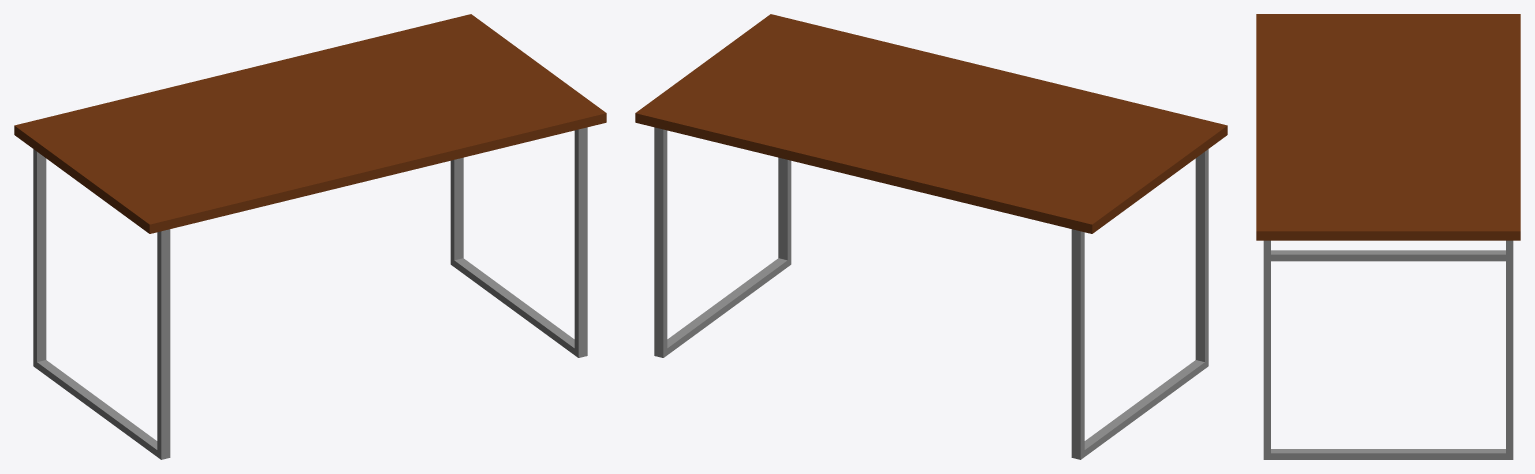
Rendered from Table.fbx.
3 views of the same model, side by side, from view 1: azimuth 30°, elevation 25°; view 2: azimuth 150°, elevation 25°; view 3: azimuth 270°, elevation 25° (orthographic). The views are drawn at different scales.
Visible parts, largest first — view 1: Plane.002, Plane.001, Plane; view 2: Plane.002, Plane.001, Plane; view 3: Plane.002, Plane, Plane.001.
Part boxes in pixels (x1,y1,x2,y2): Plane.002: (14,14,606,233); Plane.001: (33,149,170,459); Plane: (450,127,587,357); Plane.002: (635,14,1227,233); Plane.001: (1071,149,1208,459); Plane: (654,127,791,357); Plane.002: (1256,14,1520,240); Plane: (1263,240,1513,459); Plane.001: (1271,250,1505,261).
Bounding box in the file's own units: 438 × 221 × 225.
